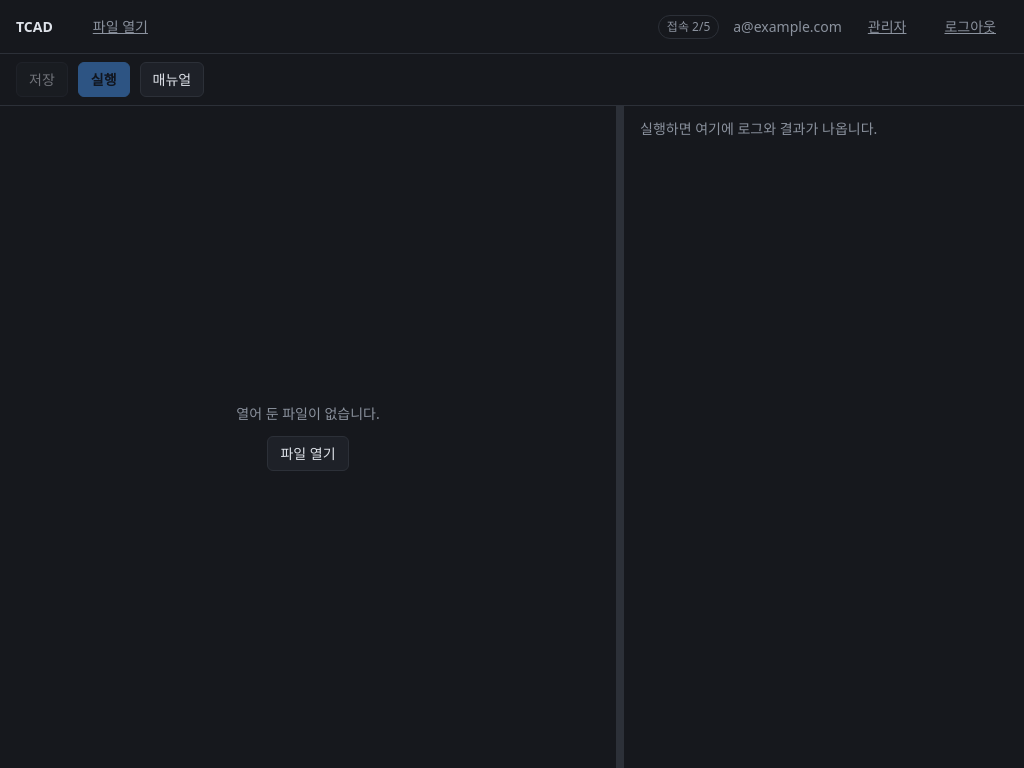
Scenario: 관리자 화면 › 닫으면 사라진다
Click the button "관리자". click: (887, 26)
box: left=856, top=10, right=918, bottom=43
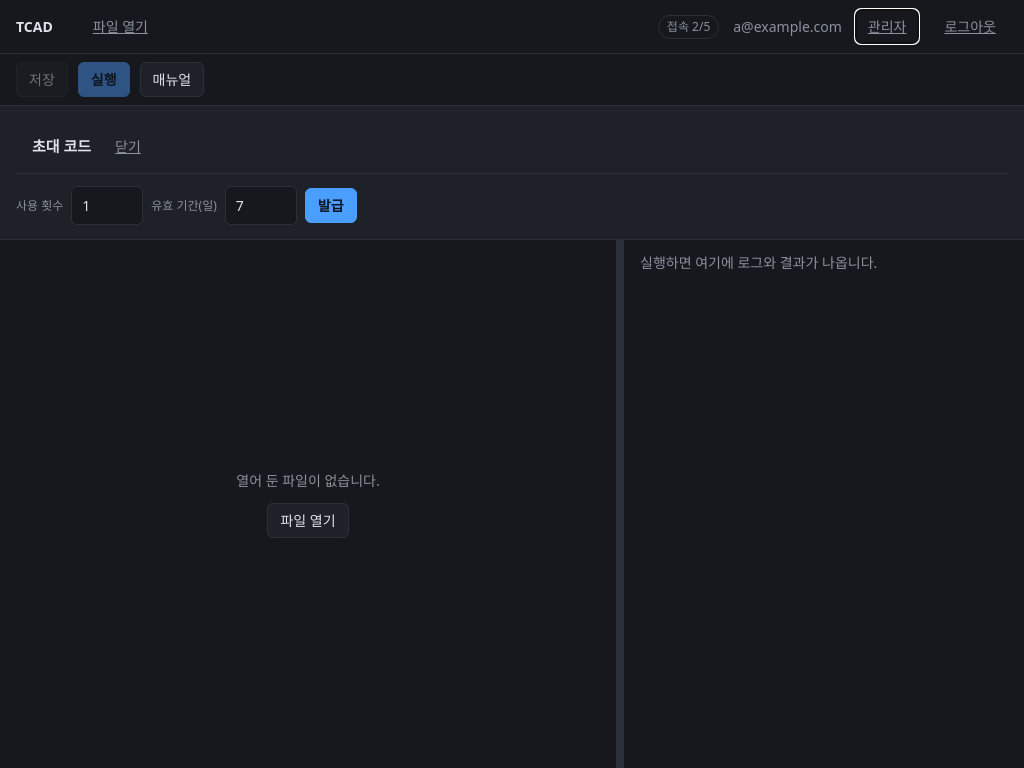
Click the button "닫기". click: (128, 146)
box: left=103, top=130, right=153, bottom=163
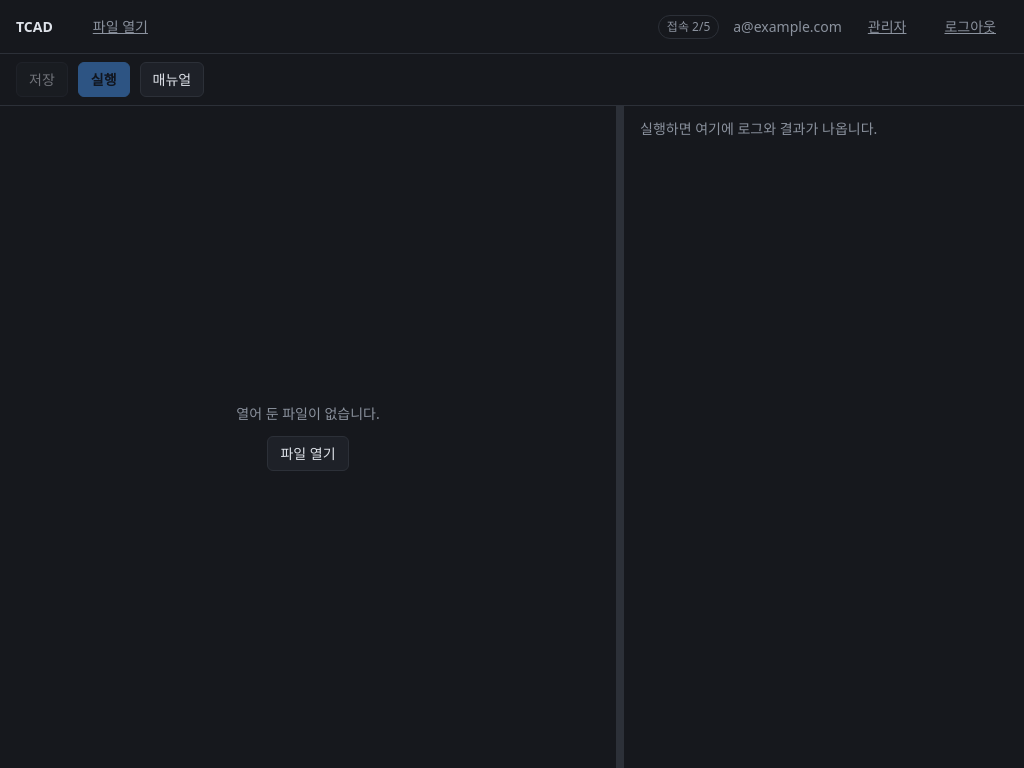
Check: the button "발급" is gone
